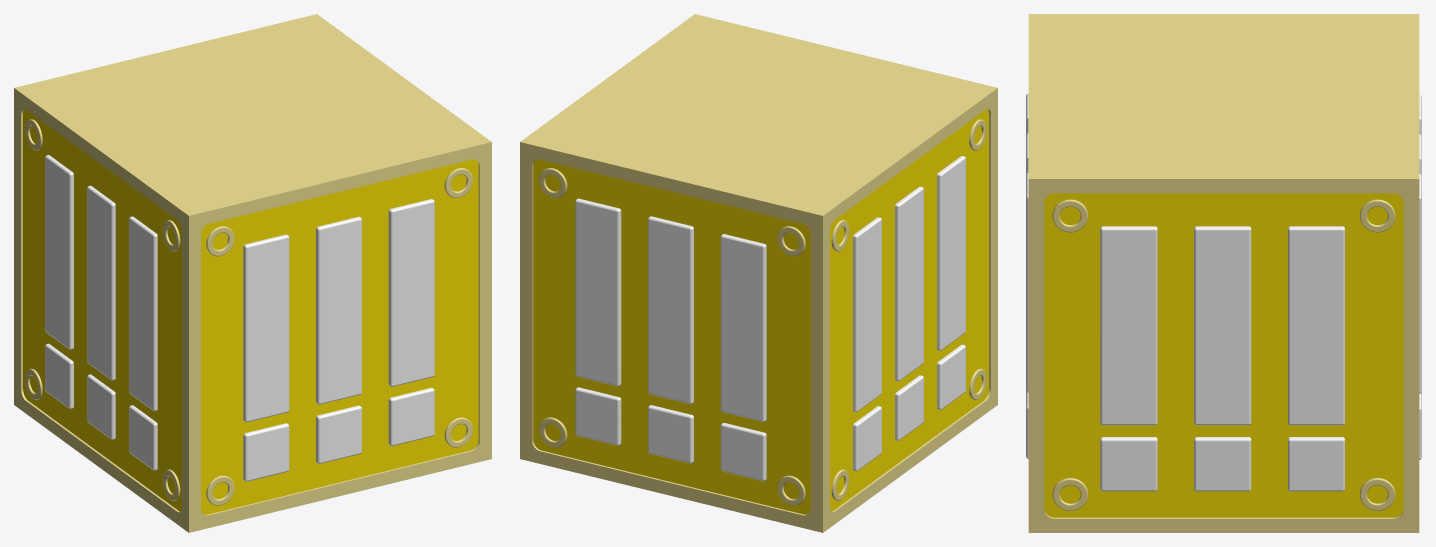
The picture shows the model from 3 angles, left to right: view 1: azimuth 30°, elevation 25°; view 2: azimuth 150°, elevation 25°; view 3: azimuth 270°, elevation 25°; orthographic projection. The views are drawn at different scales.
Parts seen in each view (by area): view 1: 046_OdorokiBLK; view 2: 046_OdorokiBLK; view 3: 046_OdorokiBLK.
Boxes of the visible parts, box(x1,y1,x2,y2) form: 046_OdorokiBLK: box(14, 14, 491, 532); 046_OdorokiBLK: box(520, 14, 997, 532); 046_OdorokiBLK: box(1026, 14, 1421, 532).
Bounding box in the file's own units: 0.152 × 0.15 × 0.152.
